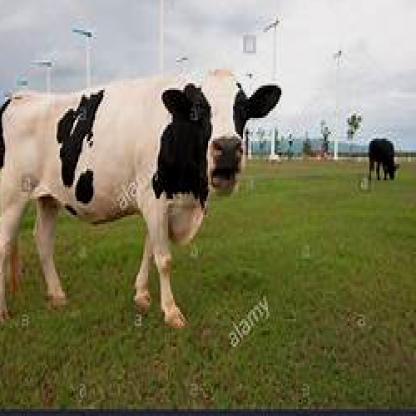cow: (0, 72, 286, 328), (364, 134, 401, 185)
